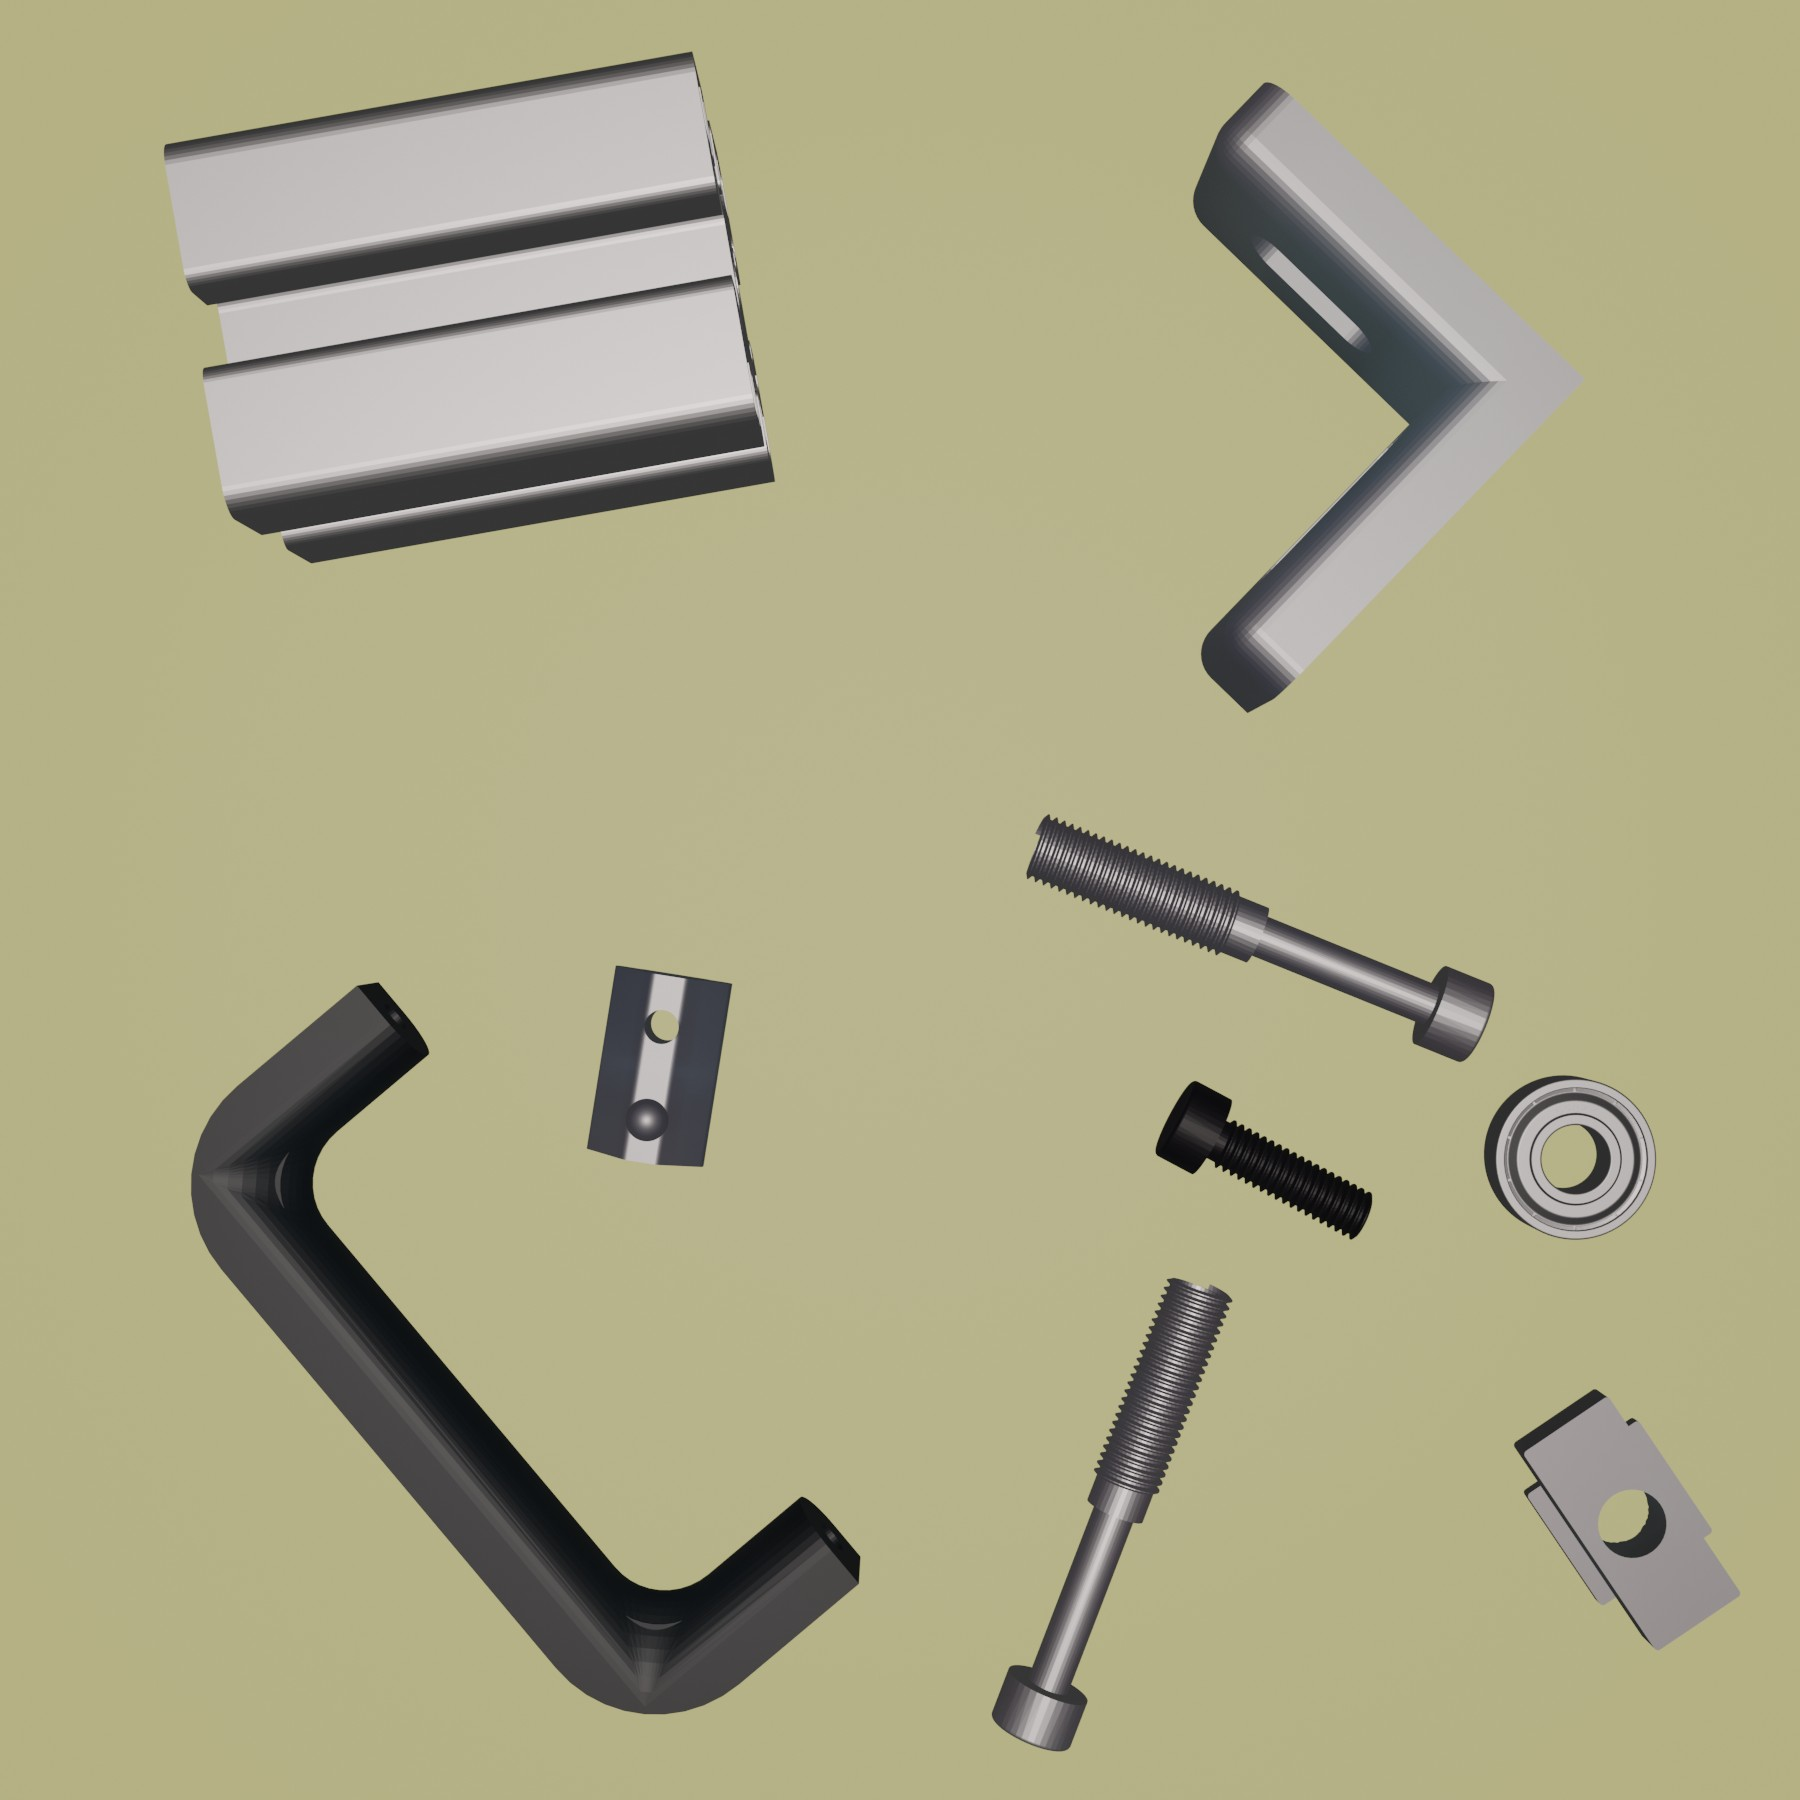Aluminium Extension: (158, 45, 778, 569)
Ball Bearing: (1480, 1070, 1658, 1241)
Multiwinkel: (1188, 77, 1592, 715)
Pull Handle: (190, 977, 860, 1714)
Shoulder Socket Head Cap Screw: (1019, 809, 1498, 1065), (989, 1273, 1235, 1754)
Socket Head Cap Screw: (1151, 1076, 1375, 1243)
T Nut Square: (1512, 1385, 1742, 1655)
T Spring Nut: (582, 961, 735, 1170)
